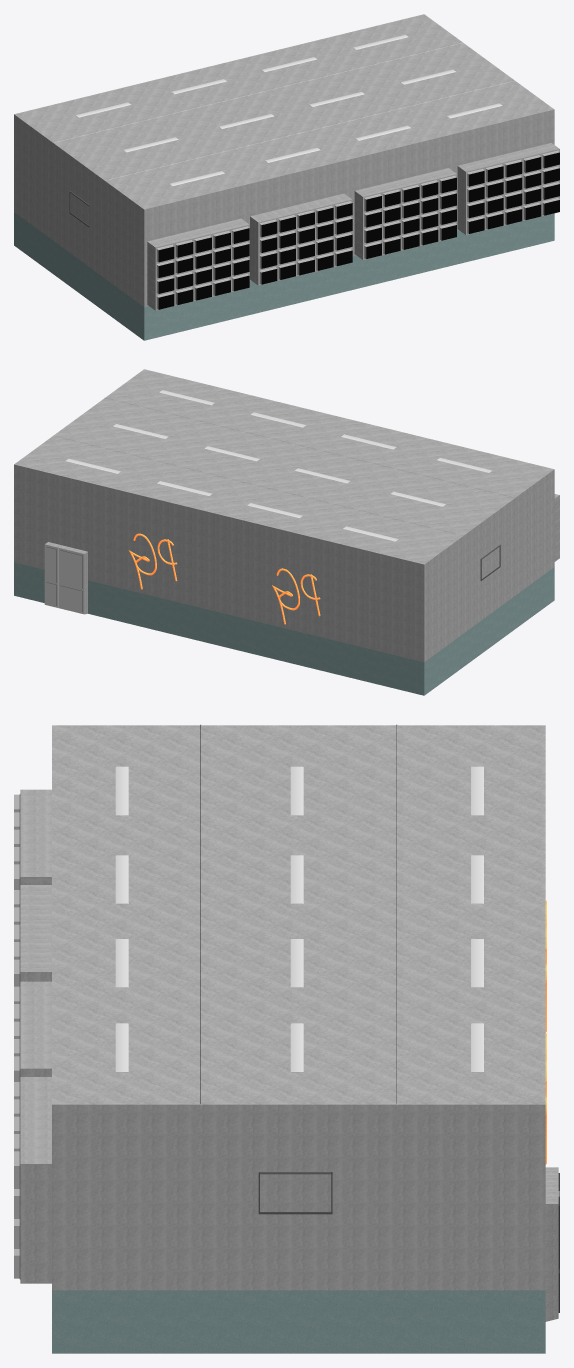
The model's file is basketball_court 1.glb.
3 views of the same model, one above another, from view 1: azimuth 30°, elevation 25°; view 2: azimuth 150°, elevation 25°; view 3: azimuth 270°, elevation 25° (orthographic). The views are drawn at different scales.
Parts seen in each view (by area): view 1: Object040_13 - Default_0, Object040_19 - Default_0, Object040_14 - Default_0, Object040_09 - Default_0, Object040_15 - Default_0, Box003; view 2: Object040_13 - Default_0, Object040_19 - Default_0, Object040_09 - Default_0, Box003, Object040_Material #191_0, Line003_20 - Default_0, Line002_20 - Default_0; view 3: Object040_13 - Default_0, Object040_19 - Default_0, Object040_09 - Default_0, Box003, Object040_15 - Default_0.
Part boxes in pixels (box(x1,y1,x2,y2)): Object040_13 - Default_0: box(14, 14, 559, 310); Object040_19 - Default_0: box(14, 109, 554, 307); Object040_14 - Default_0: box(158, 152, 559, 309); Object040_09 - Default_0: box(14, 212, 554, 340); Object040_15 - Default_0: box(155, 149, 559, 310); Box003: box(75, 34, 502, 186); Object040_13 - Default_0: box(14, 369, 559, 614); Object040_19 - Default_0: box(14, 464, 554, 662); Object040_09 - Default_0: box(14, 562, 554, 695); Box003: box(65, 390, 492, 541); Object040_Material #191_0: box(44, 544, 84, 614); Line003_20 - Default_0: box(128, 533, 177, 589); Line002_20 - Default_0: box(272, 568, 320, 624); Object040_13 - Default_0: box(20, 724, 558, 1321); Object040_19 - Default_0: box(52, 1104, 545, 1290); Object040_09 - Default_0: box(52, 1290, 545, 1353); Box003: box(115, 766, 483, 1072); Object040_15 - Default_0: box(14, 794, 20, 1279).
Bounding box in the file's own units: 16.58 × 5.07 × 10.06.
Materials: 16 (5 with a texture image).
